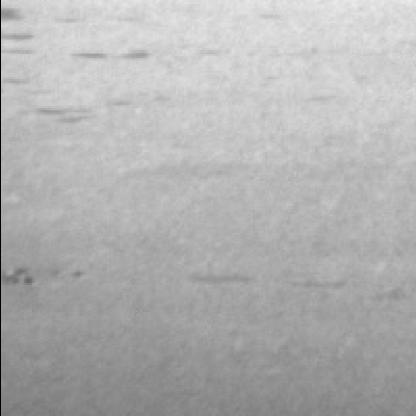inclusion: (64, 35, 160, 73), (179, 260, 260, 289)
